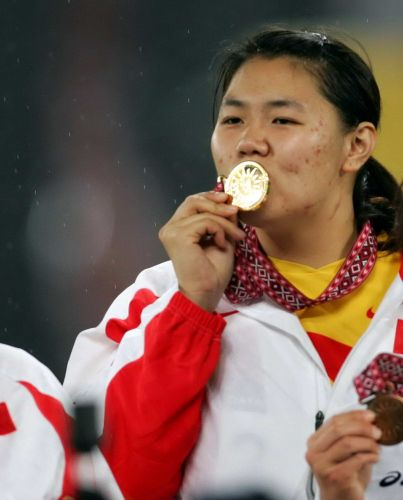face: (216, 53, 337, 222)
